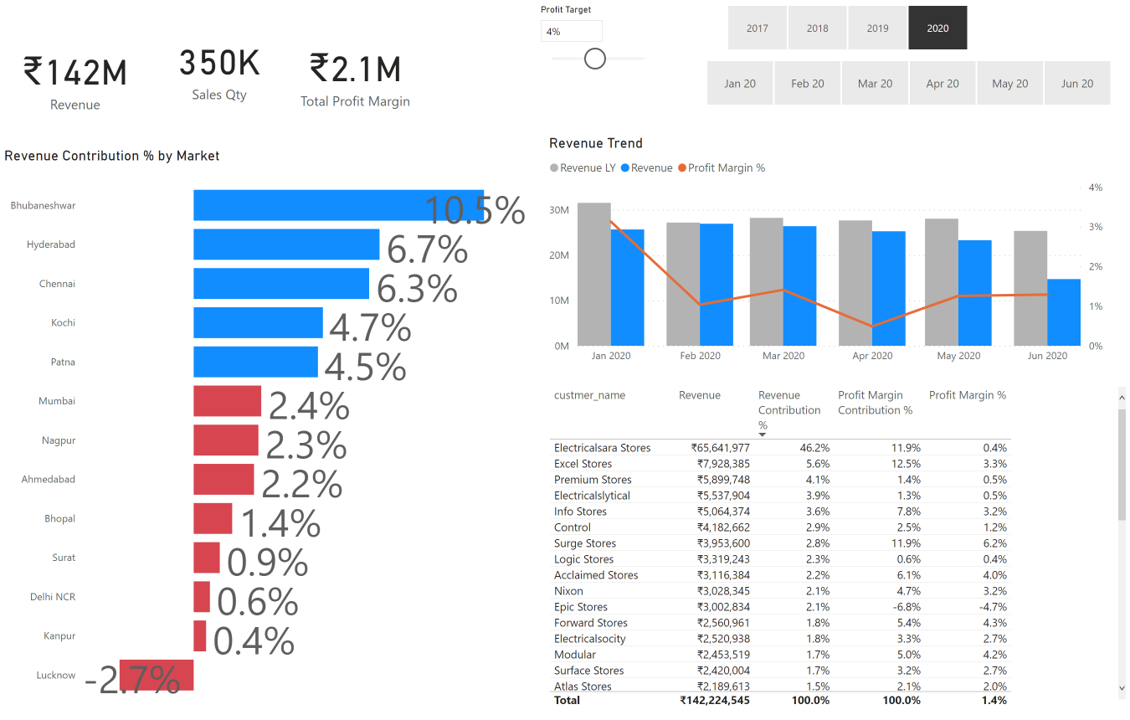

What the dashboard file says about the page in this screenshot:
{"tool":"powerbi","page":{"name":"Profit Analysis","canvas":[1350,850],"ordinal":1},"visuals":[{"type":"card","fields":{"Values":["BaseMeasures (2).Revenue"]},"box":[0,0,179.6,184.8],"z":0},{"type":"card","fields":{"Values":["BaseMeasures (2).Sales Qty"]},"box":[179.6,0,164.1,193],"z":1000},{"type":"barChart","title":"Profit % by market","fields":{"Y":["BaseMeasures (2).Profit Margin %"],"Category":["sales markets.markets_name"]},"box":[464.5,184.8,230.2,664.8],"z":2000},{"type":"barChart","title":"Profit Contribution % by Market","fields":{"Y":["BaseMeasures (2).Profit Margin Contribution %"],"Category":["sales markets.markets_name"]},"box":[221.9,185.8,208.5,659.6],"z":3000},{"type":"slicer","fields":{"Values":["sales date.year"]},"box":[483.2,0,335.5,66.5],"z":4000},{"type":"slicer","fields":{"Values":["sales date.cy_date"]},"box":[818.6,0,531.7,66.5],"z":5000},{"type":"tableEx","title":"Top 5 Customers","fields":{"Values":["sales customers.custmer_name","BaseMeasures (2).Revenue","BaseMeasures (2).Revenue Contribution %","BaseMeasures (2).Profit Margin Contribution %","BaseMeasures (2).Profit Margin %"]},"box":[701.9,454.2,648.3,395.4],"z":6000},{"type":"lineChart","title":"Revenue Trend","fields":{"Y":["BaseMeasures (2).Revenue"],"Category":["sales date.cy_date"]},"box":[701.9,104.3,621.4,338.6],"z":7000},{"type":"card","fields":{"Values":["BaseMeasures (2).Total Profit Margin"]},"box":[349.9,0,161,176.5],"z":8000},{"type":"barChart","title":"Revenue Contribution % by Market","fields":{"Y":["BaseMeasures (2).Revenue Contribution %"],"Category":["sales markets.markets_name"]},"box":[0,185.8,219.9,654.5],"z":9000}]}

Visuals, with their boxes in screenshot pixels (x1, y1, x2, y2), scaled from the page's 1350x850 canvas onto the 1130x720 screenshot:
card - BaseMeasures (2).Revenue: x1=0, y1=0, x2=150, y2=157
card - BaseMeasures (2).Sales Qty: x1=150, y1=0, x2=288, y2=163
"Profit % by market" barChart: x1=389, y1=157, x2=581, y2=719
"Profit Contribution % by Market" barChart: x1=186, y1=157, x2=360, y2=716
slicer - sales date.year: x1=404, y1=0, x2=685, y2=56
slicer - sales date.cy_date: x1=685, y1=0, x2=1129, y2=56
"Top 5 Customers" tableEx: x1=588, y1=385, x2=1129, y2=719
"Revenue Trend" lineChart: x1=588, y1=88, x2=1108, y2=375
card - BaseMeasures (2).Total Profit Margin: x1=293, y1=0, x2=428, y2=150
"Revenue Contribution % by Market" barChart: x1=0, y1=157, x2=184, y2=712
